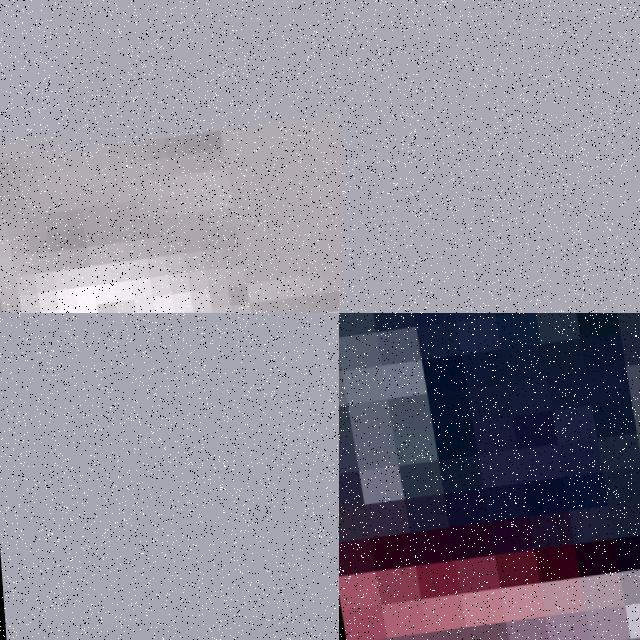0: (0, 0, 339, 313)
drone: (339, 313, 640, 640)
